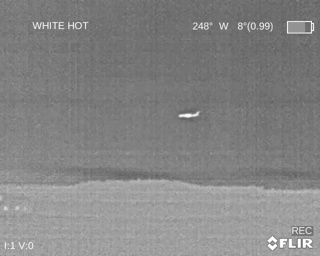AIRPLANE: (178, 110, 199, 118)
